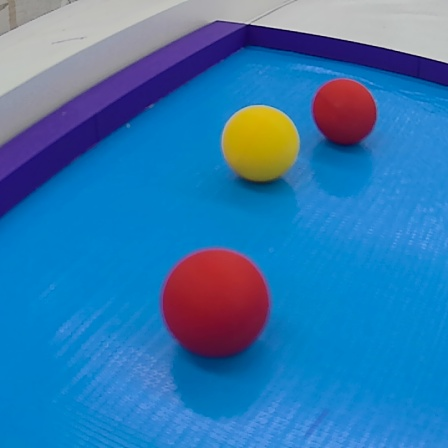blue_aim: (3, 17, 448, 448)
red: (157, 249, 281, 365), (308, 76, 386, 151)
yellow: (221, 103, 301, 186)
